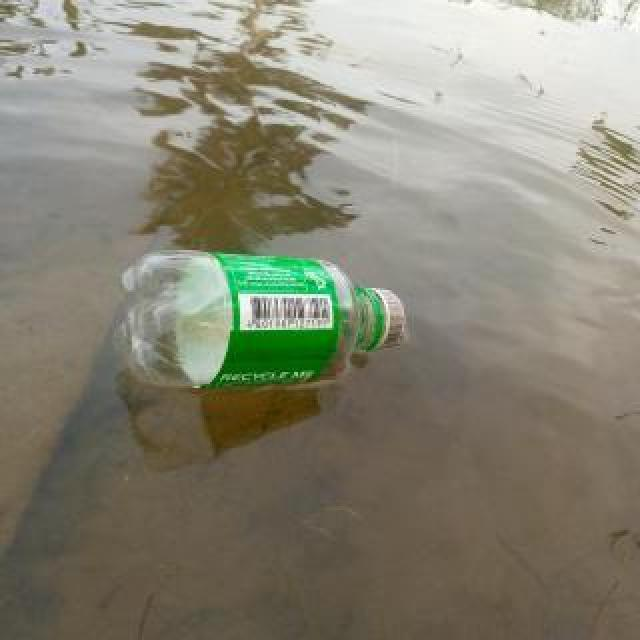bottle: (113, 248, 407, 394)
